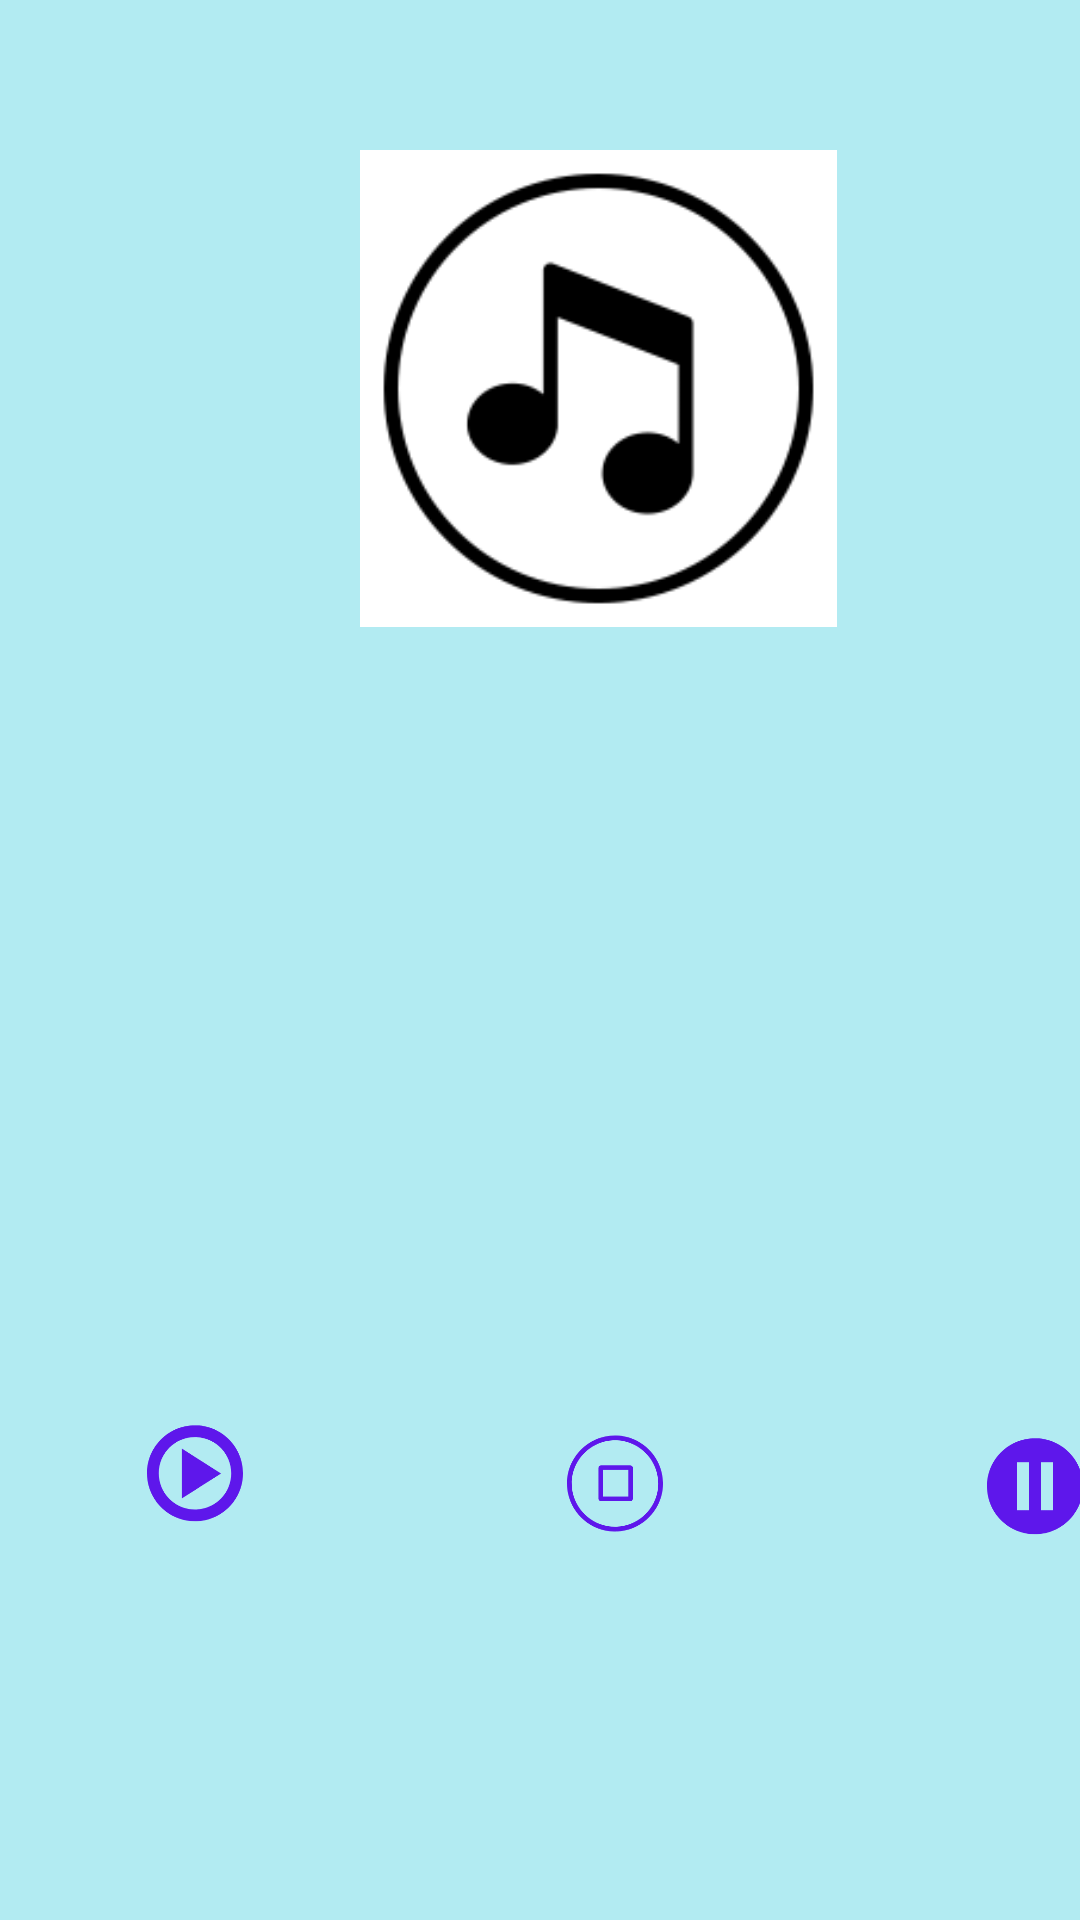

Icon bounding boxes for this 1080*1920 phone screenshot, format bbox=(x1, y1, x2, y2):
play: bbox=(147, 1425, 243, 1522)
stop: bbox=(567, 1435, 663, 1532)
